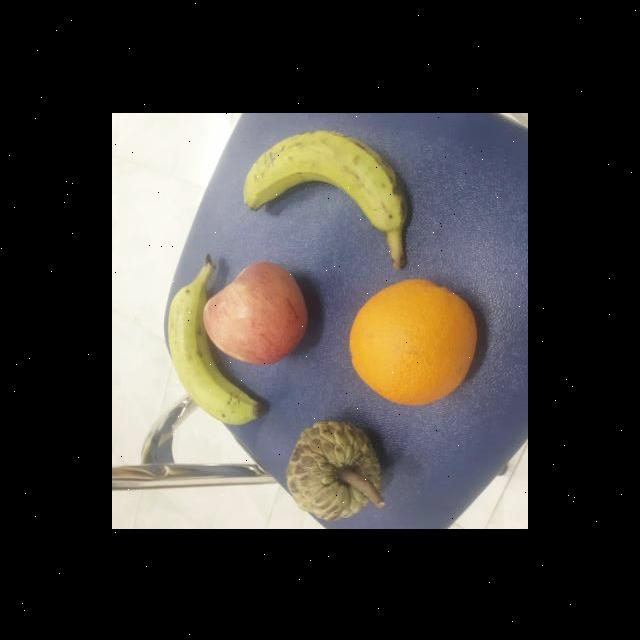Sakya fruit: (282, 420, 385, 522)
apple: (202, 260, 309, 368)
banana: (241, 127, 414, 231)
orange: (348, 278, 476, 406)
